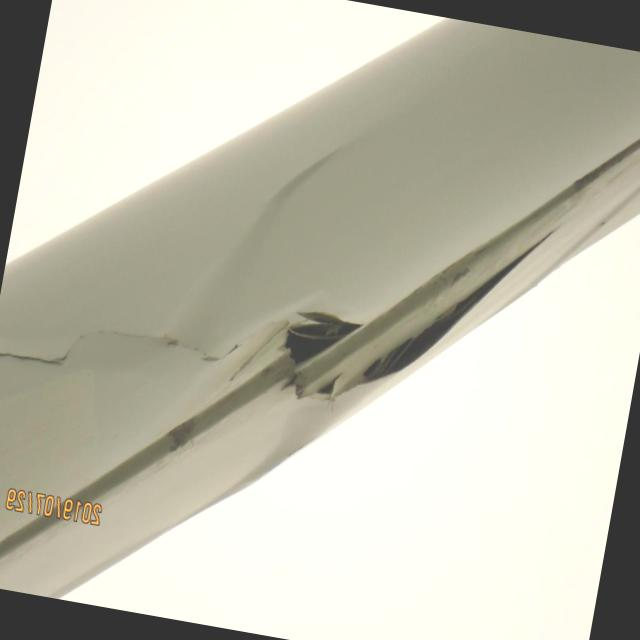crack: (0, 176, 507, 454)
